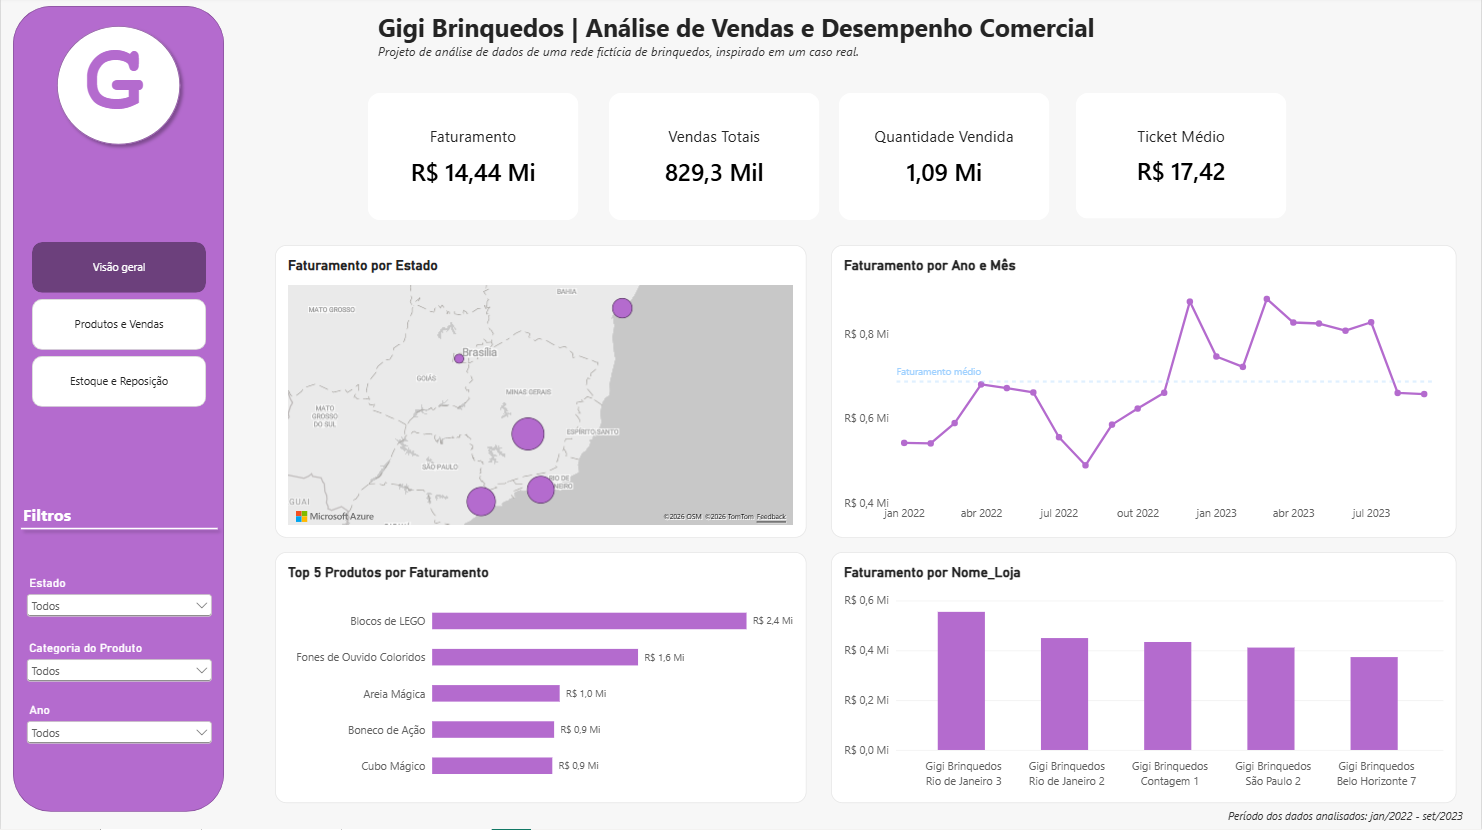

What the dashboard file says about the page in this screenshot:
{"tool":"powerbi","page":{"name":"Visão geral","canvas":[1920,1080],"ordinal":0},"visuals":[{"type":"cardVisual","title":"Unidades Vendidas","fields":{"Data":["Sum(vendas_processed.Quantidade)"]},"box":[1087.7,125,273.3,165],"z":0},{"type":"cardVisual","title":"Vendas Totais","fields":{"Data":["CountNonNull(vendas_processed.ID_Venda)"]},"box":[789.3,125,273.3,165],"z":1000},{"type":"cardVisual","title":"Faturamento","fields":{"Data":["Medidas.Faturamento"]},"box":[476,124,273.3,165],"z":2000},{"type":"cardVisual","fields":{"Data":["Medidas.Ticket_medio"]},"box":[1396,125,273.3,163.3],"z":3000},{"type":"lineChart","title":"Faturamento por Ano e Mês","fields":{"Category":["calendario_processed.Data.Variation.Hierarquia de datas.Ano","calendario_processed.Data.Variation.Hierarquia de datas.Mês"],"Y":["Medidas.Faturamento"]},"box":[1078,322,812,380],"z":4000},{"type":"azureMap","title":"Faturamento por Estado","fields":{"Category":["lojas_processed.Estado_Loja"],"Size":["Medidas.Faturamento"]},"box":[356,322,690,380],"z":5000},{"type":"clusteredBarChart","title":"Top 5 Produtos por Faturamento","fields":{"Category":["produtos_processed.Nome_Produto"],"Y":["Medidas.Faturamento"]},"box":[356,720,690,326],"z":6000},{"type":"shape","box":[16,12,274,1046],"z":7000},{"type":"shape","box":[64,28,178,172],"z":8000},{"type":"textbox","box":[108,38,92,150],"z":9000},{"type":"pageNavigator","box":[40,318.6,226,216],"z":10000},{"type":"slicer","fields":{"Values":["lojas_processed.Estado_Loja"]},"box":[28.6,750,250,61.7],"z":11000},{"type":"textbox","box":[28.6,657.1,113.3,33.3],"z":12000},{"type":"shape","box":[17.1,662.9,273.3,53.3],"z":13000},{"type":"slicer","fields":{"Values":["produtos_processed.Categoria_Produto"]},"box":[28.6,834.3,250,70],"z":14000},{"type":"slicer","fields":{"Values":["calendario_processed.Data.Variation.Hierarquia de datas.Ano"]},"box":[28.6,915.7,250,58.2],"z":15000},{"type":"clusteredColumnChart","fields":{"Category":["lojas_processed.Nome_Loja"],"Y":["Medidas.Faturamento"]},"box":[1078,720,812,326],"z":16000},{"type":"textbox","box":[1593.3,1053.3,326.7,26.7],"z":17000},{"type":"textbox","box":[490,16.7,1146.7,96.7],"z":18000}]}

Visuals, with their boxes in screenshot pixels (x1, y1, x2, y2), scaled from the page's 1920x1080 canvas onto the 1482x830 screenshot:
"Unidades Vendidas" cardVisual: 840 96 1051 223
"Vendas Totais" cardVisual: 609 96 820 223
"Faturamento" cardVisual: 367 95 578 222
cardVisual - Medidas.Ticket_medio: 1078 96 1288 222
"Faturamento por Ano e Mês" lineChart: 832 247 1459 540
"Faturamento por Estado" azureMap: 275 247 807 540
"Top 5 Produtos por Faturamento" clusteredBarChart: 275 553 807 804
shape: 12 9 224 813
shape: 49 22 187 154
textbox: 83 29 154 144
pageNavigator: 31 245 205 411
slicer - lojas_processed.Estado_Loja: 22 576 215 624
textbox: 22 505 110 531
shape: 13 509 224 550
slicer - produtos_processed.Categoria_Produto: 22 641 215 695
slicer - calendario_processed.Data.Variation.Hierarquia de datas.Ano: 22 704 215 748
clusteredColumnChart - lojas_processed.Nome_Loja x Medidas.Faturamento: 832 553 1459 804
textbox: 1230 809 1481 829
textbox: 378 13 1263 87
